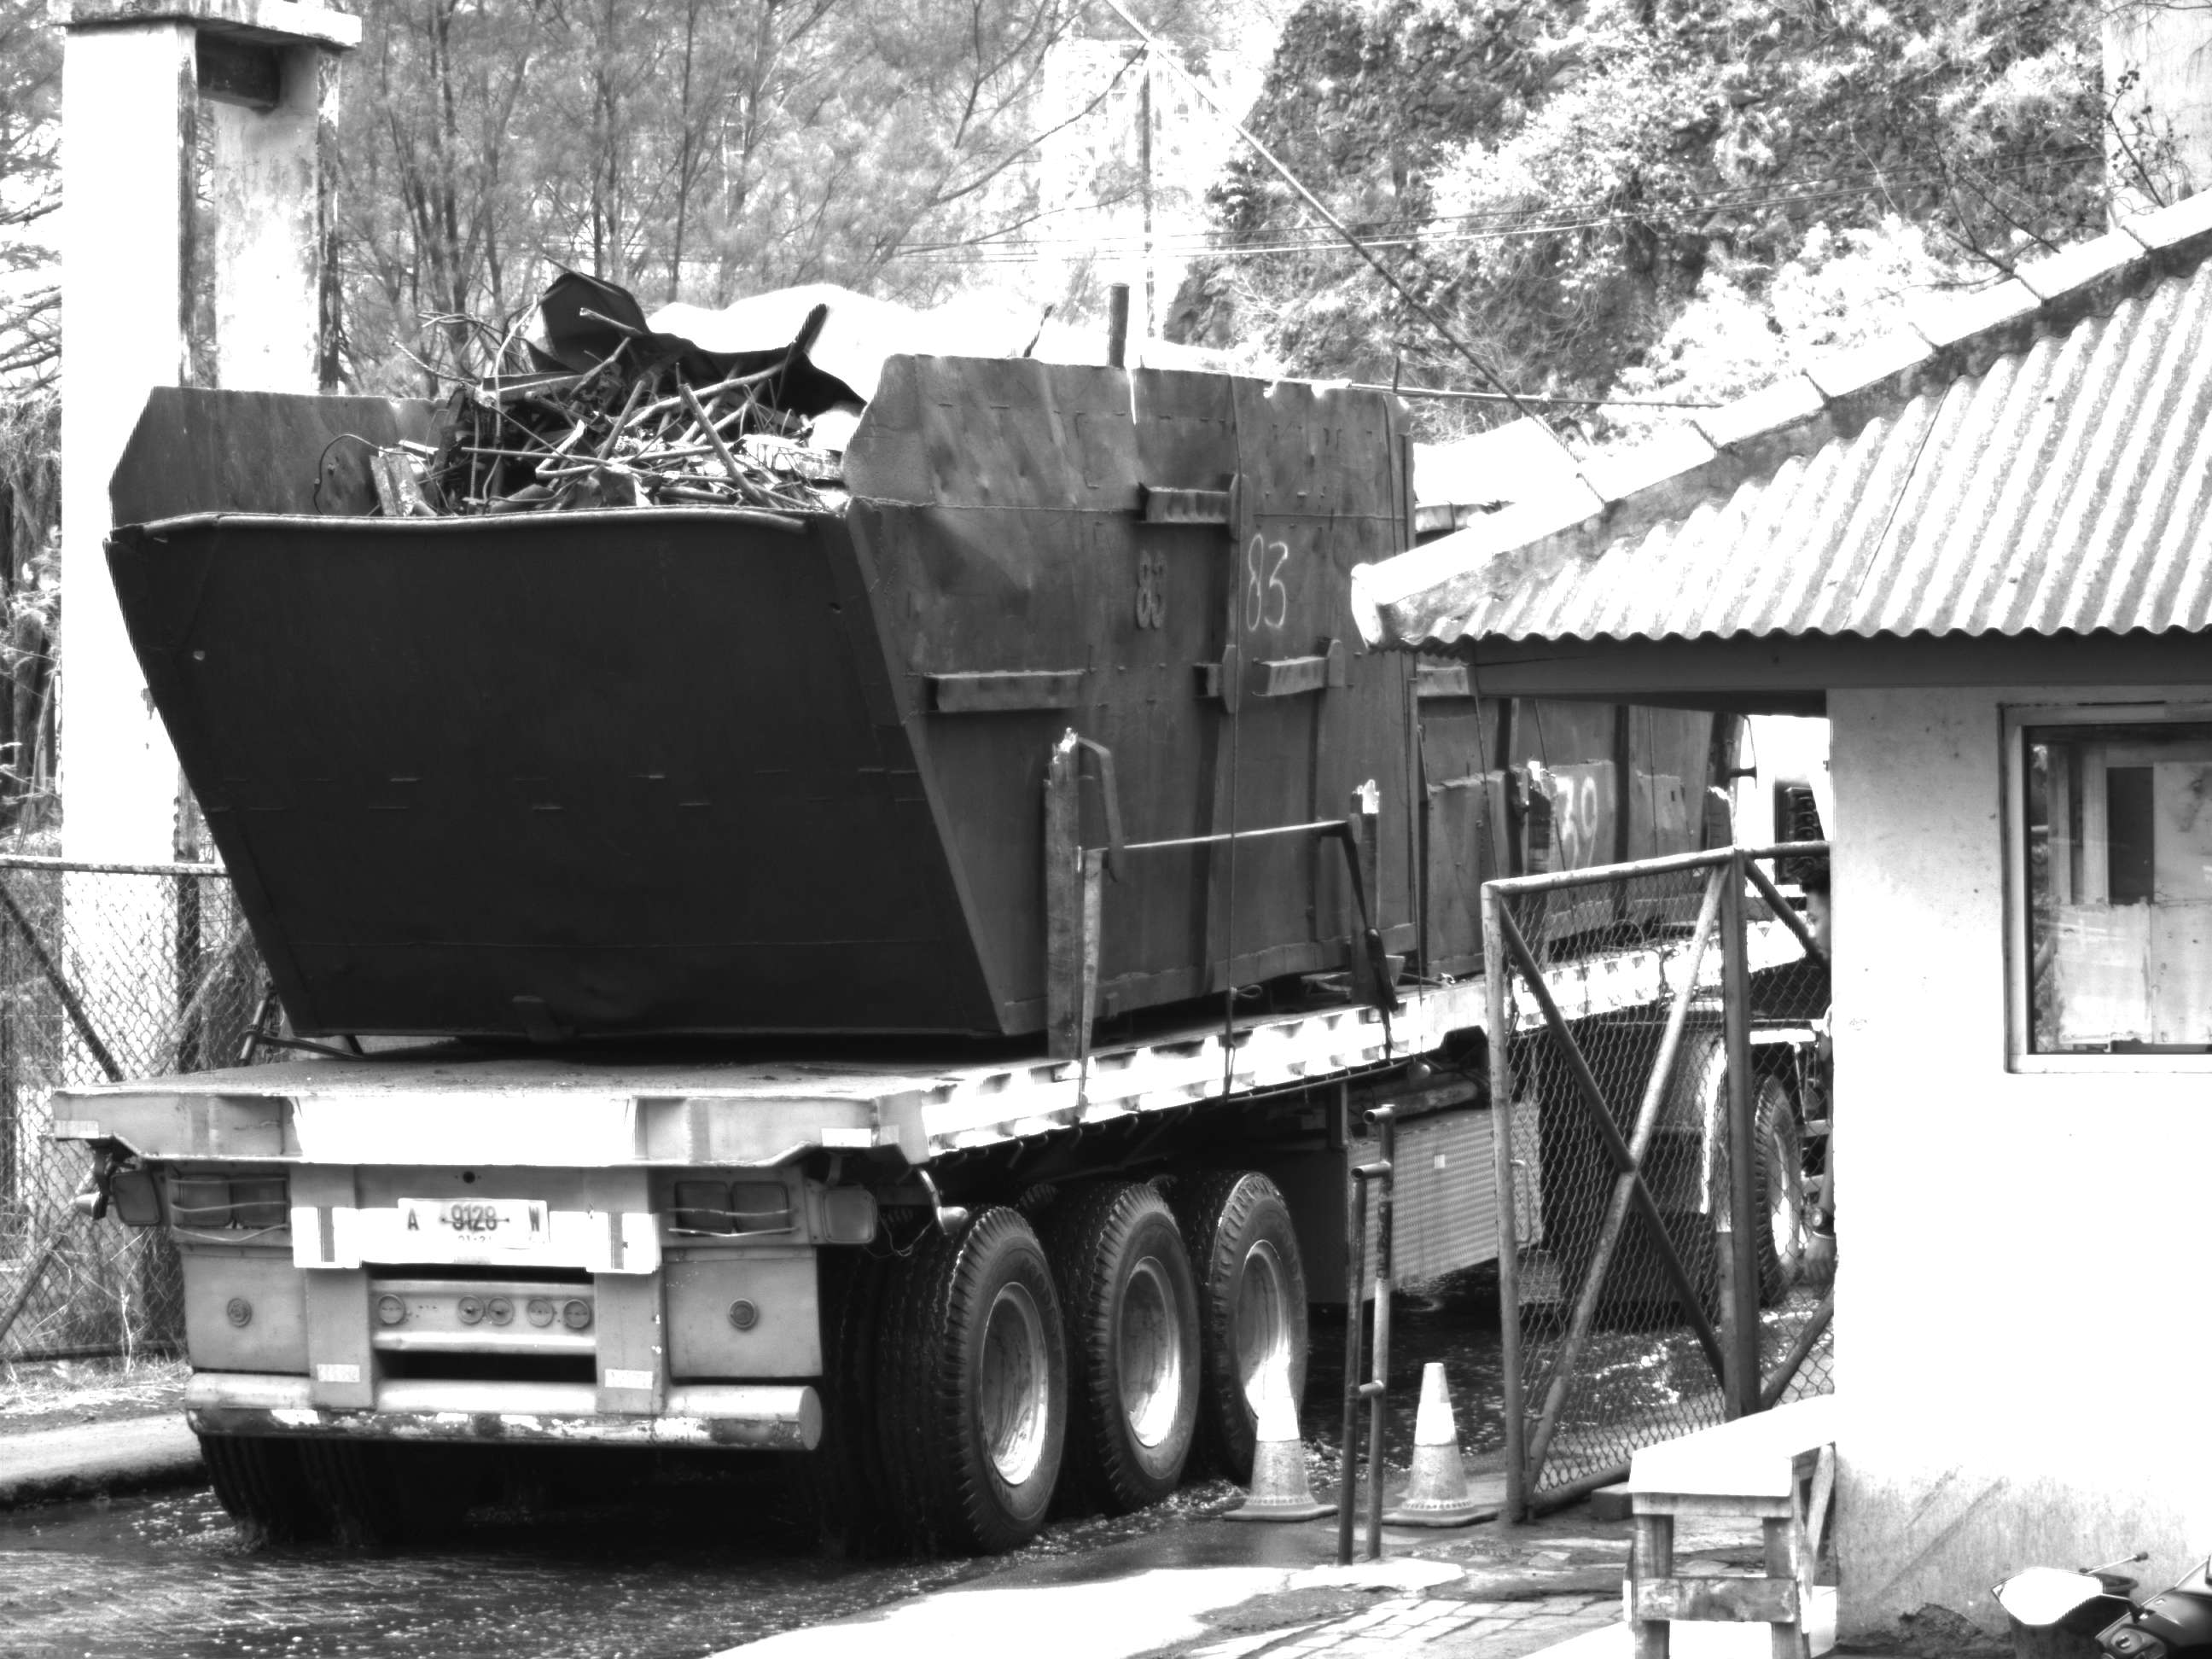day_truck_rear: (41, 1068, 1074, 1547)
plate: (390, 1190, 559, 1247)
